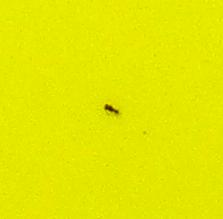Hymenoptera: (100, 100, 123, 119)
